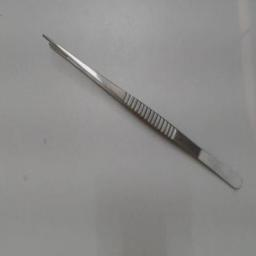DeBakey Dissector: (35, 24, 249, 198)
